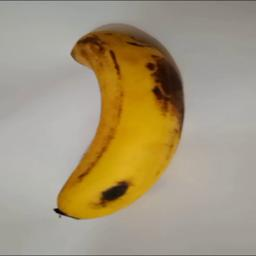Banana Semifresh: (54, 29, 185, 221)
